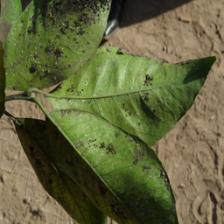Melanose: (1, 0, 128, 94)
